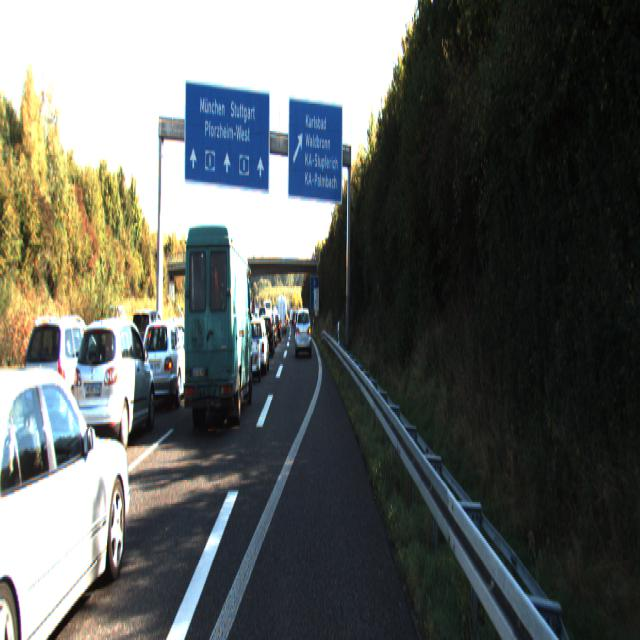Car: (0, 349, 137, 638), (182, 219, 253, 435), (70, 316, 158, 460), (20, 312, 110, 440), (140, 315, 196, 412), (244, 314, 270, 375), (257, 313, 275, 358), (295, 306, 311, 356)
